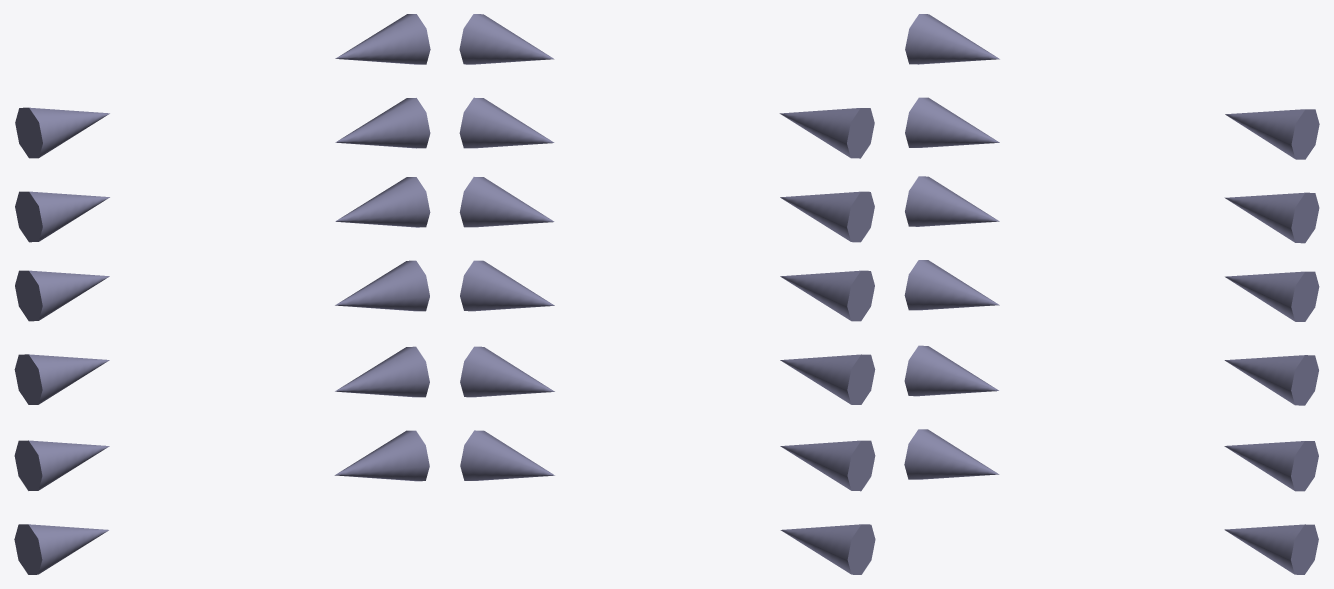
Rendered from rij_spikes2.fbx.
The picture shows the model from 3 angles, left to right: view 1: azimuth 30°, elevation 25°; view 2: azimuth 150°, elevation 25°; view 3: azimuth 330°, elevation 25°; orthographic projection.
Visible parts, largest first — view 1: spike1_1, spike3_1, spike6, spike5, spike4, spike6_1, spike2_1, spike3, spike1, spike4_1, spike2, spike5_1; view 2: spike2_1, spike3_1, spike5, spike5_1, spike4, spike6_1, spike1, spike4_1, spike6, spike3, spike2, spike1_1; view 3: spike1, spike5_1, spike4_1, spike1_1, spike6_1, spike4, spike3_1, spike2_1, spike5, spike3, spike6, spike2.
Boxes of the visible parts, left/top/right/bottom form: spike1_1: left=334, top=430, right=429, bottom=481; spike3_1: left=335, top=260, right=429, bottom=311; spike6: left=15, top=107, right=109, bottom=158; spike5: left=15, top=191, right=109, bottom=242; spike4: left=15, top=270, right=109, bottom=321; spike6_1: left=335, top=14, right=430, bottom=64; spike2_1: left=335, top=346, right=429, bottom=397; spike3: left=14, top=354, right=109, bottom=404; spike1: left=14, top=524, right=108, bottom=574; spike4_1: left=335, top=177, right=430, bottom=227; spike2: left=14, top=440, right=109, bottom=490; spike5_1: left=335, top=98, right=430, bottom=148; spike2_1: left=460, top=346, right=554, bottom=397; spike3_1: left=460, top=260, right=554, bottom=311; spike5: left=780, top=191, right=874, bottom=242; spike5_1: left=459, top=97, right=554, bottom=148; spike4: left=780, top=270, right=874, bottom=321; spike6_1: left=459, top=14, right=554, bottom=64; spike1: left=780, top=524, right=875, bottom=574; spike4_1: left=459, top=177, right=554, bottom=227; spike6: left=779, top=108, right=874, bottom=158; spike3: left=780, top=354, right=875, bottom=404; spike2: left=780, top=440, right=875, bottom=491; spike1_1: left=460, top=430, right=554, bottom=480; spike1: left=904, top=429, right=999, bottom=479; spike5_1: left=1224, top=192, right=1319, bottom=243; spike4_1: left=1225, top=271, right=1319, bottom=321; spike1_1: left=1224, top=524, right=1318, bottom=574; spike6_1: left=1225, top=109, right=1319, bottom=159; spike4: left=905, top=176, right=999, bottom=226; spike3_1: left=1224, top=355, right=1318, bottom=405; spike2_1: left=1224, top=441, right=1318, bottom=491; spike5: left=905, top=97, right=999, bottom=147; spike3: left=904, top=260, right=999, bottom=310; spike6: left=905, top=14, right=999, bottom=64; spike2: left=904, top=345, right=998, bottom=396.
Size of the model in its own units: 854 by 983 by 107.
